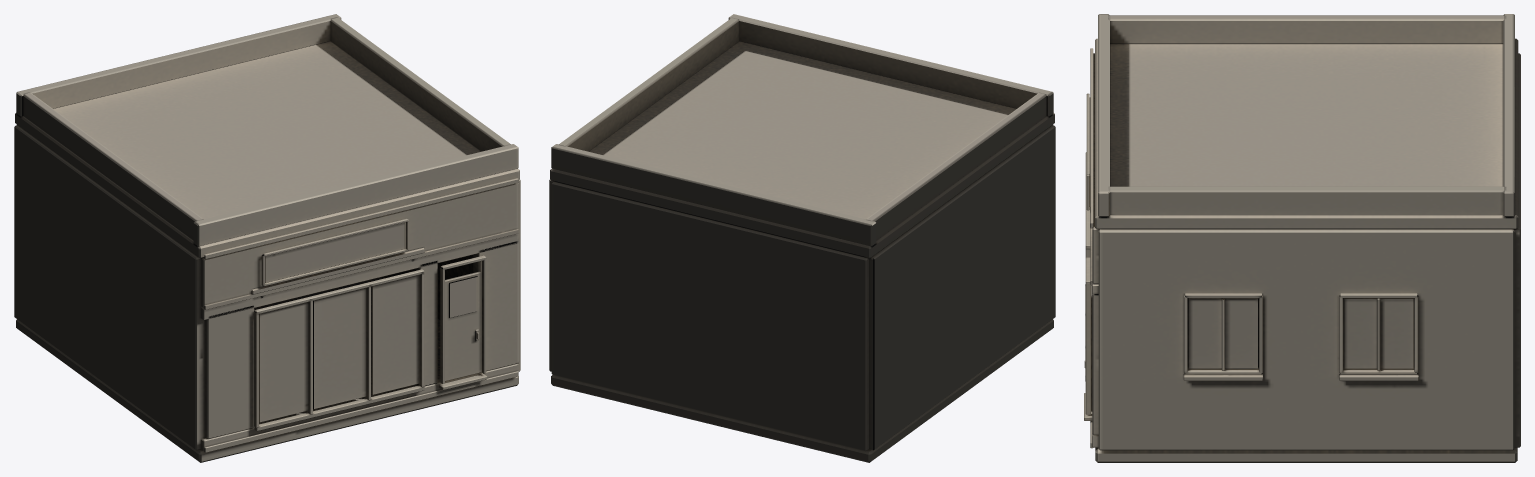
File: 0-20261016-1900-ev063-r12-town-lotsmall_baked.glb
3 renders of one model, left to right at view 1: azimuth 30°, elevation 25°; view 2: azimuth 150°, elevation 25°; view 3: azimuth 270°, elevation 25°, orthographic. The views are drawn at different scales.
Visible parts, largest first — view 1: SW_Town_LotSmall; view 2: SW_Town_LotSmall; view 3: SW_Town_LotSmall.
Boxes of the visible parts, x1,y1,x2,y2 form: SW_Town_LotSmall: (14,14,520,462); SW_Town_LotSmall: (549,14,1055,462); SW_Town_LotSmall: (1084,14,1520,462).
Bounding box in the file's own units: 8.16 × 5.6 × 8.15.
1 material, 1 textured.
